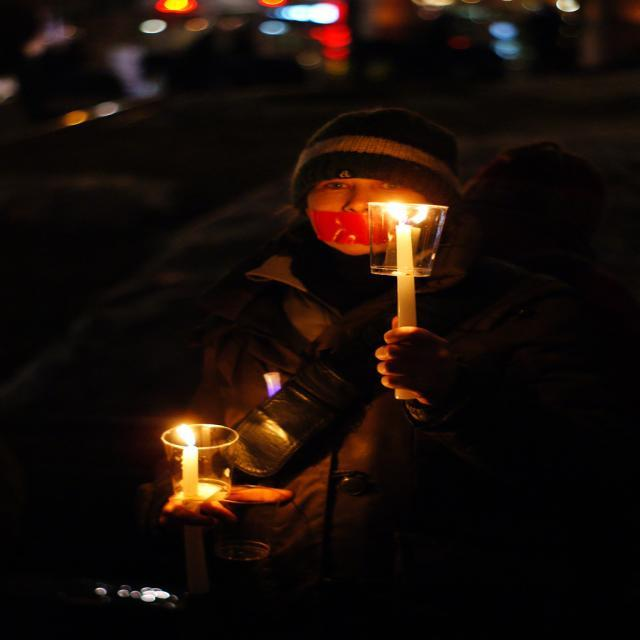Fire: (163, 424, 206, 446), (386, 200, 428, 219)
